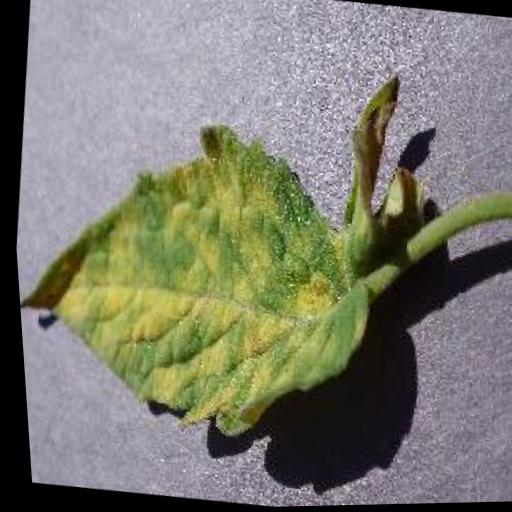Leaf Mold: (6, 100, 392, 459)
